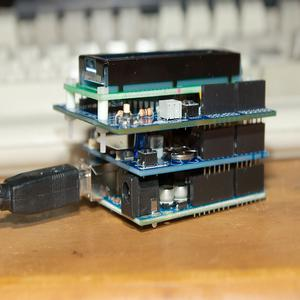duino: (52, 36, 281, 226)
